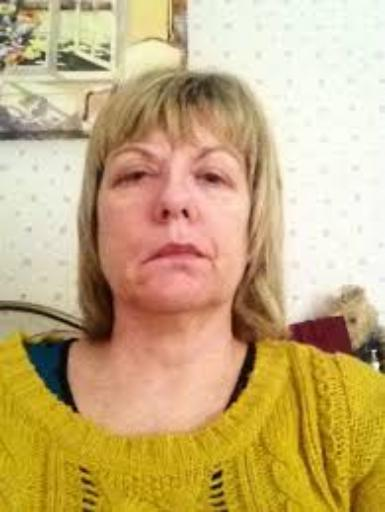left_eye: (196, 170, 233, 191)
left_lip_corner: (200, 251, 216, 266)
right_eye: (114, 168, 159, 190)
right_lip_corner: (138, 257, 154, 271)
